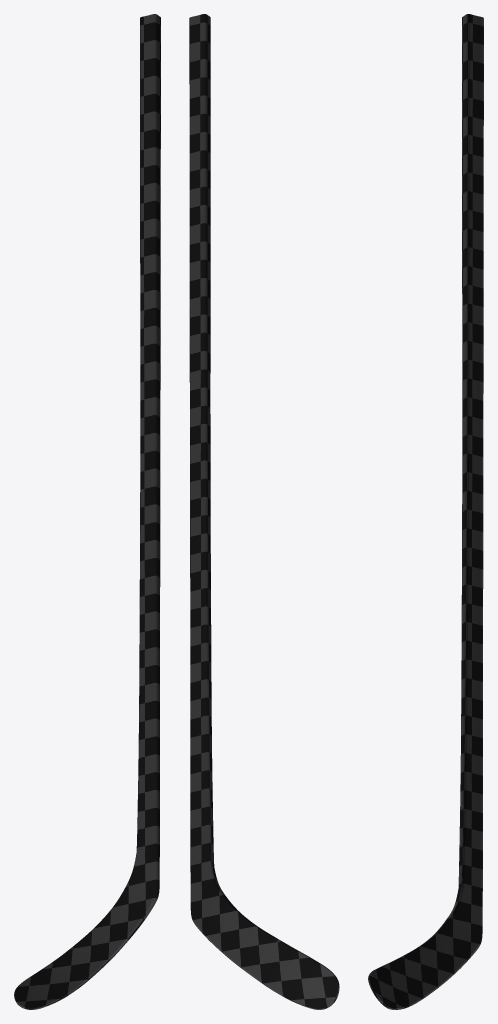
Rendered from P15-SBT.glb.
3 renders of one model, left to right at view 1: azimuth 30°, elevation 25°; view 2: azimuth 210°, elevation 25°; view 3: azimuth 330°, elevation 25°, orthographic. The views are drawn at different scales.
Visible parts, largest first — view 1: geometry_0; view 2: geometry_0; view 3: geometry_0.
Part boxes in pixels (x1,y1,x2,y2): geometry_0: (14,14,160,1009); geometry_0: (189,14,339,1009); geometry_0: (368,14,483,1009).
Size of the model in its own units: 222 by 1650 by 72.32.
Materials: 1 (1 with a texture image).
